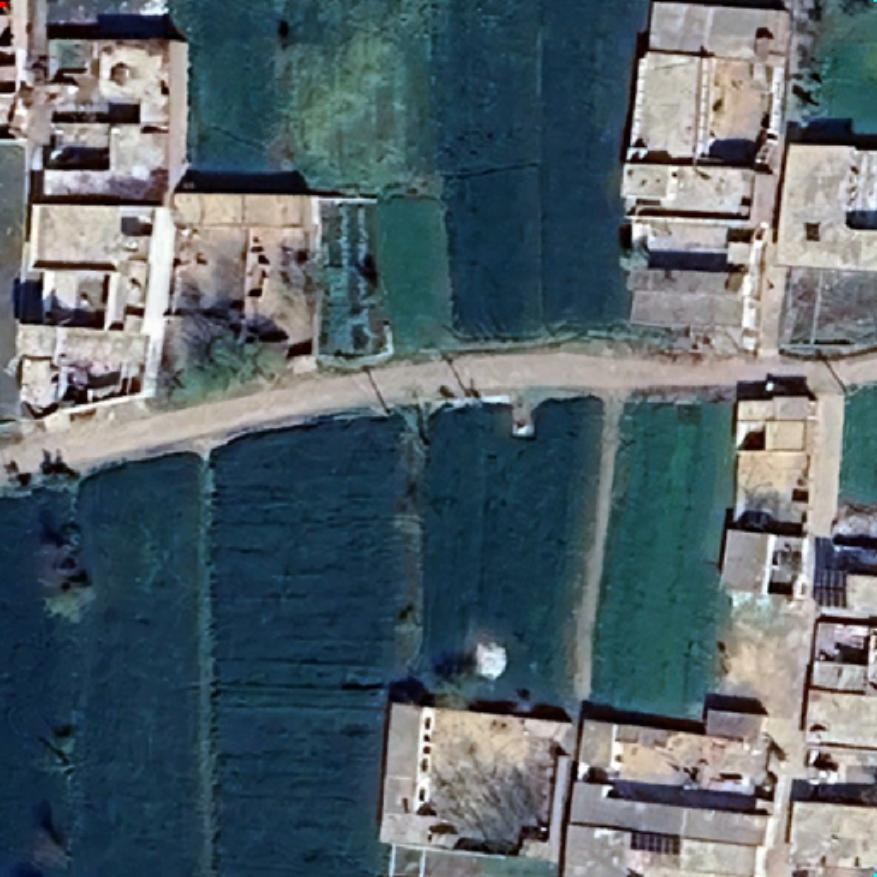Solarpanel: (810, 564, 851, 610), (627, 827, 685, 859)
